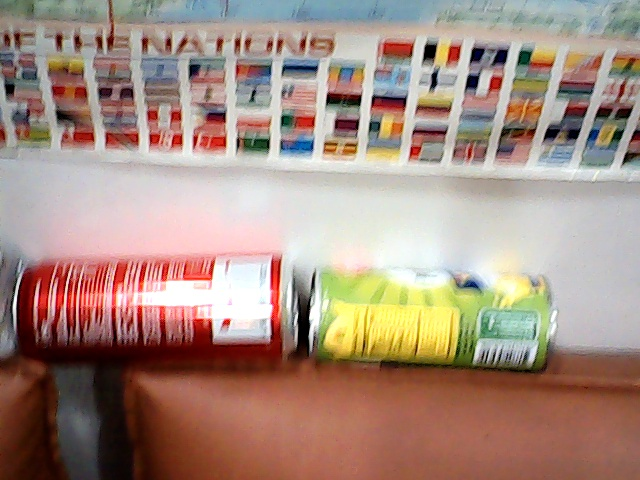Cola: (7, 241, 301, 375)
Pine Juice: (302, 257, 559, 375)
